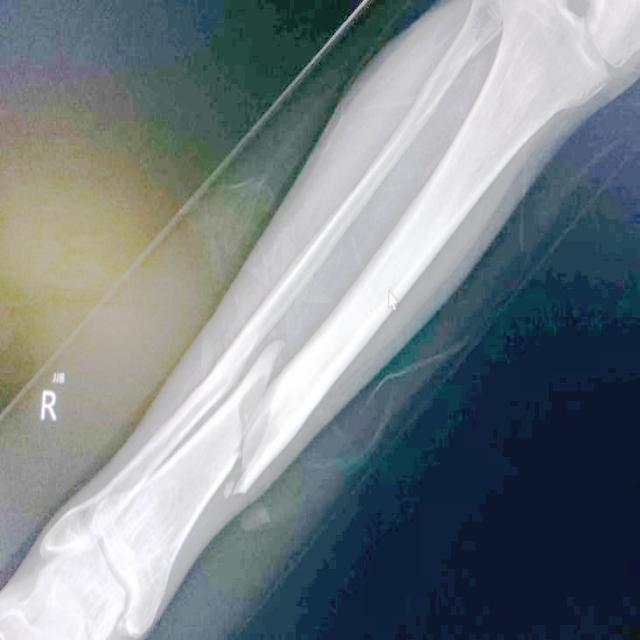Impact Fracture: (216, 386, 289, 500)
